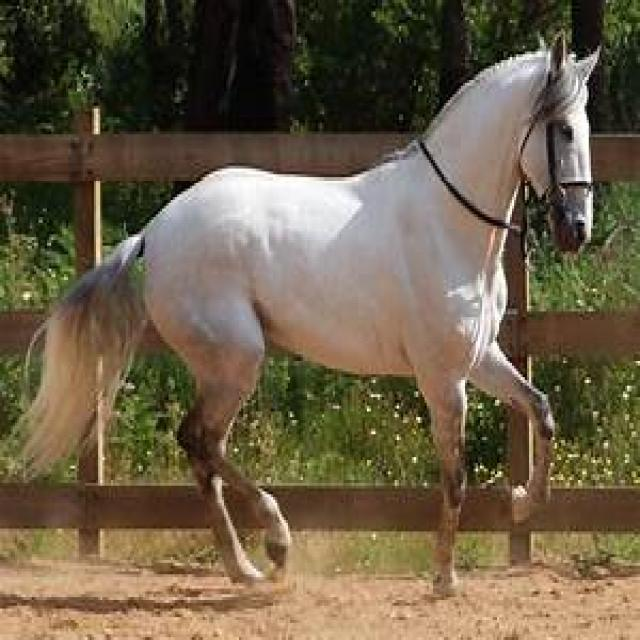horse: (23, 37, 599, 600)
